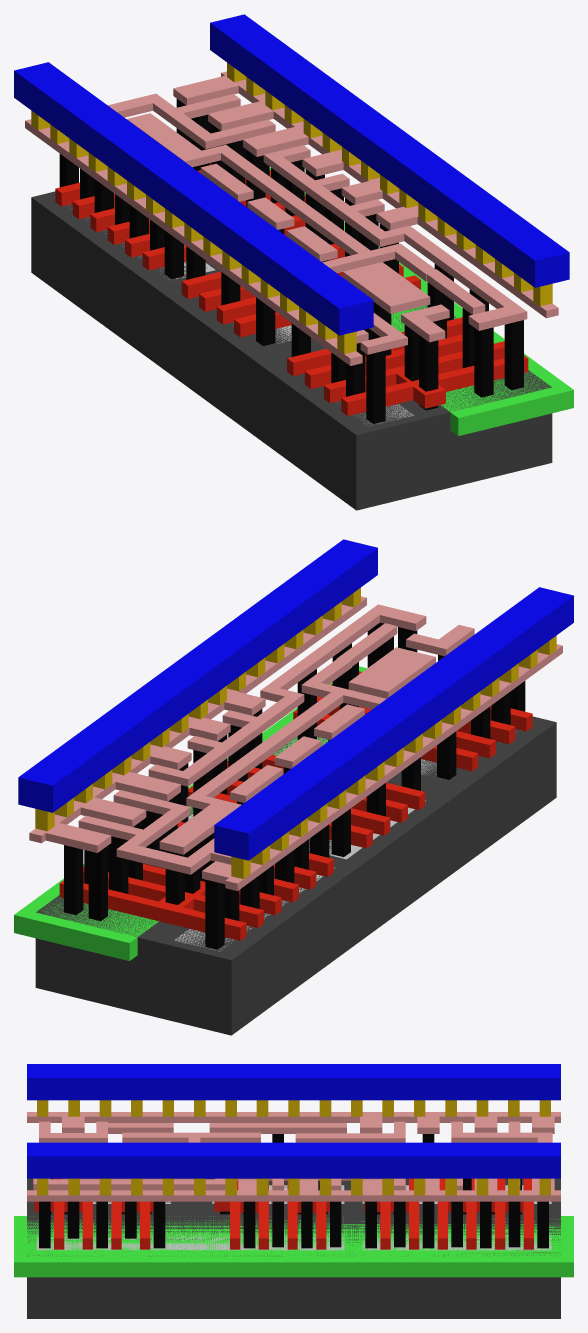
The model's file is sky130_fd_sc_hd__a32o_4.obj.
3 renders of one model, top to bottom at view 1: azimuth 30°, elevation 25°; view 2: azimuth 150°, elevation 25°; view 3: azimuth 270°, elevation 25°, orthographic. The views are drawn at different scales.
Parts seen in each view (by area): view 1: subs, metal1, li, licon, poly, mcon, nwell, diff; view 2: subs, metal1, li, licon, poly, mcon, nwell, diff; view 3: metal1, subs, nwell, li, licon, poly, mcon, tap.
Boxes of the visible parts, bbox=[...] form: subs: bbox=[31, 191, 552, 510]; metal1: bbox=[14, 14, 569, 335]; li: bbox=[25, 71, 558, 365]; licon: bbox=[59, 99, 523, 423]; poly: bbox=[55, 163, 528, 415]; mcon: bbox=[31, 62, 552, 353]; nwell: bbox=[269, 167, 573, 435]; diff: bbox=[54, 197, 413, 426]; subs: bbox=[35, 716, 556, 1035]; metal1: bbox=[18, 539, 573, 860]; li: bbox=[29, 596, 562, 890]; licon: bbox=[64, 622, 525, 949]; poly: bbox=[59, 671, 532, 940]; mcon: bbox=[35, 587, 556, 878]; nwell: bbox=[14, 666, 366, 960]; diff: bbox=[174, 759, 436, 951]; metal1: bbox=[27, 1064, 560, 1178]; subs: bbox=[27, 1178, 560, 1318]; nwell: bbox=[14, 1216, 573, 1277]; li: bbox=[27, 1112, 560, 1201]; licon: bbox=[39, 1134, 548, 1248]; poly: bbox=[34, 1178, 533, 1249]; mcon: bbox=[37, 1100, 550, 1195]; tap: bbox=[36, 1230, 551, 1250].
Bounding box in the file's own units: 3.2 × 2.74 × 8.2.
